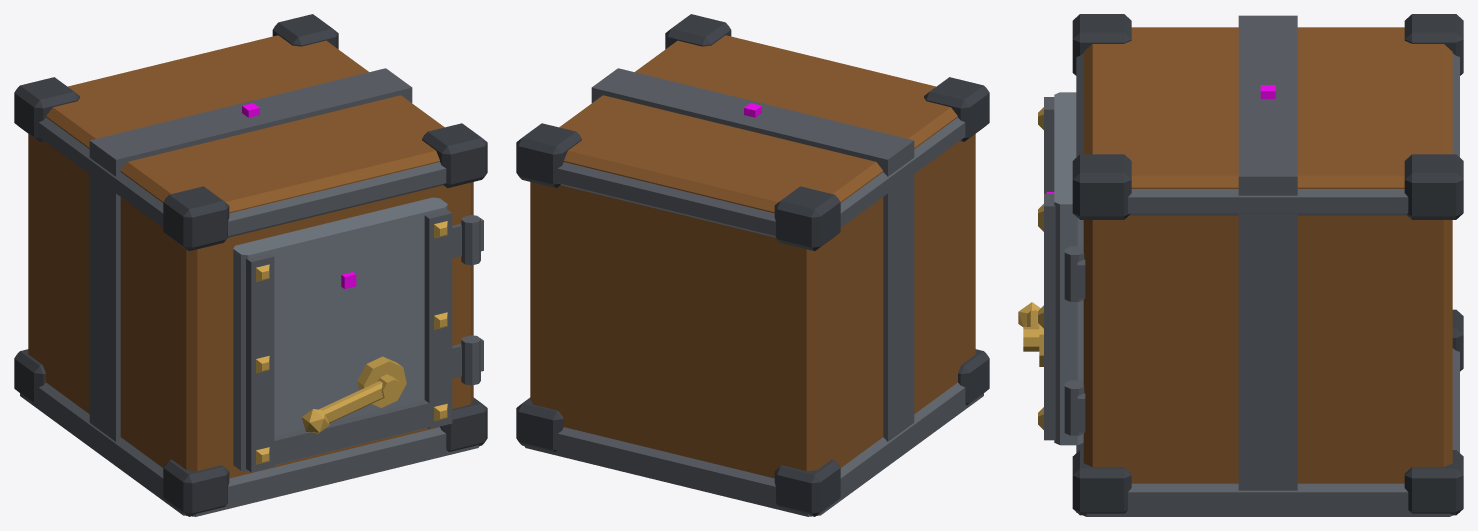
Rendered from VLT_Lvl1.fbx.
The picture shows the model from 3 angles, left to right: view 1: azimuth 30°, elevation 25°; view 2: azimuth 150°, elevation 25°; view 3: azimuth 270°, elevation 25°; orthographic projection. The views are drawn at different scales.
Visible parts, largest first — view 1: Body, Bands, Door, Corners, DoorFrame, Handle, DoorStuds; view 2: Body, Bands, Corners; view 3: Body, Bands, Corners, Door, DoorFrame, Handle.
Part boxes in pixels (bbox=[...]): Body: bbox=[28, 35, 473, 478]; Bands: bbox=[20, 68, 483, 516]; Door: bbox=[233, 197, 447, 471]; Corners: bbox=[14, 14, 487, 516]; DoorFrame: bbox=[246, 209, 452, 472]; Handle: bbox=[301, 356, 406, 433]; DoorStuds: bbox=[256, 221, 447, 464]; Body: bbox=[530, 35, 975, 478]; Bands: bbox=[524, 68, 983, 516]; Corners: bbox=[516, 14, 989, 516]; Body: bbox=[1083, 27, 1452, 483]; Bands: bbox=[1064, 15, 1459, 516]; Corners: bbox=[1072, 14, 1463, 515]; Door: bbox=[1054, 92, 1083, 445]; DoorFrame: bbox=[1044, 97, 1055, 440]; Handle: bbox=[1018, 302, 1043, 366].
Bounding box in the file's own units: 5.3 × 5.2 × 6.04.
